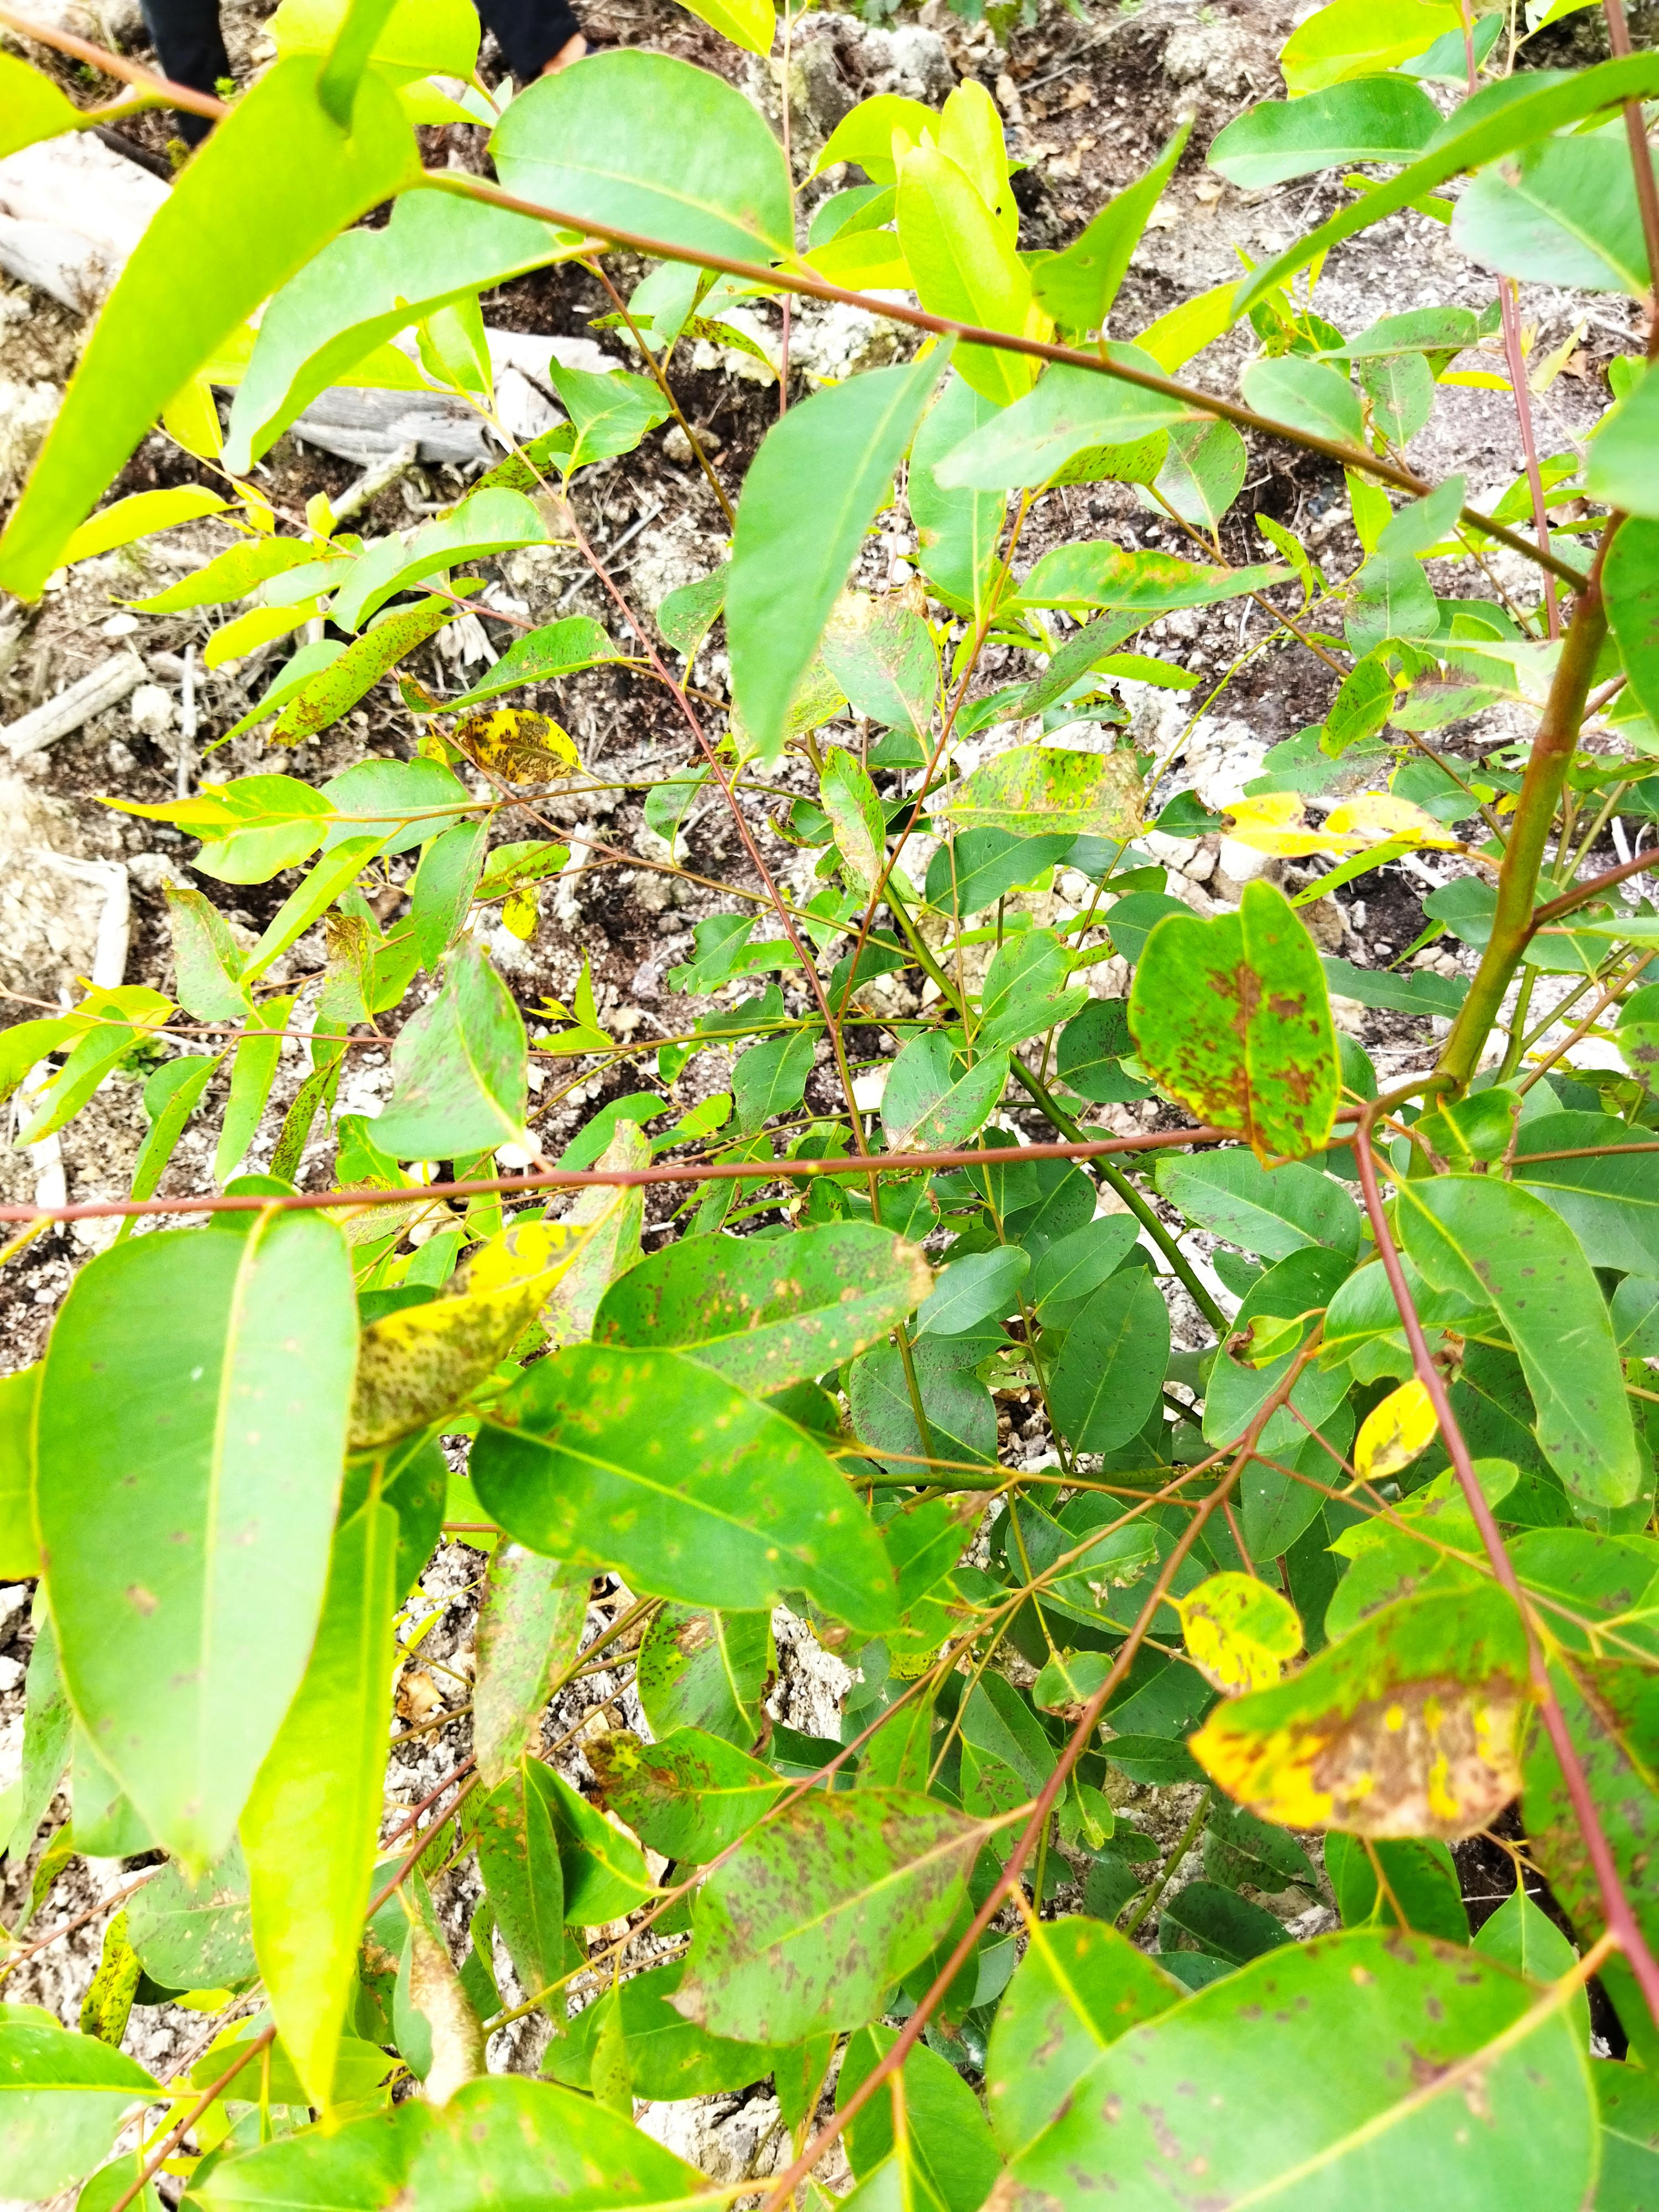Xanthomonas: (653, 1782, 1006, 2040), (1223, 1660, 1575, 1864), (1124, 907, 1342, 1158)
